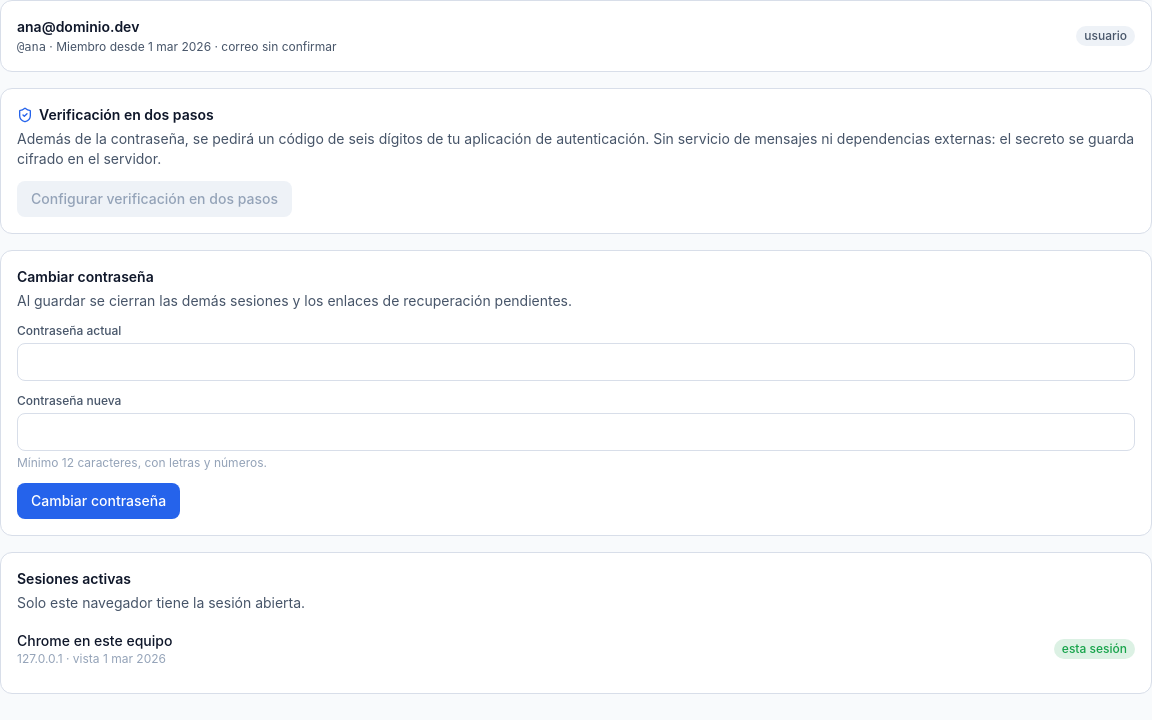
AccountPanel › el rechazo del servidor se muestra tal cual
This screenshot has width=1152, height=720.
Step 1. Type "cual" into the password field labelled "Contraseña actual" → [576, 362], box [17,343,1135,381]
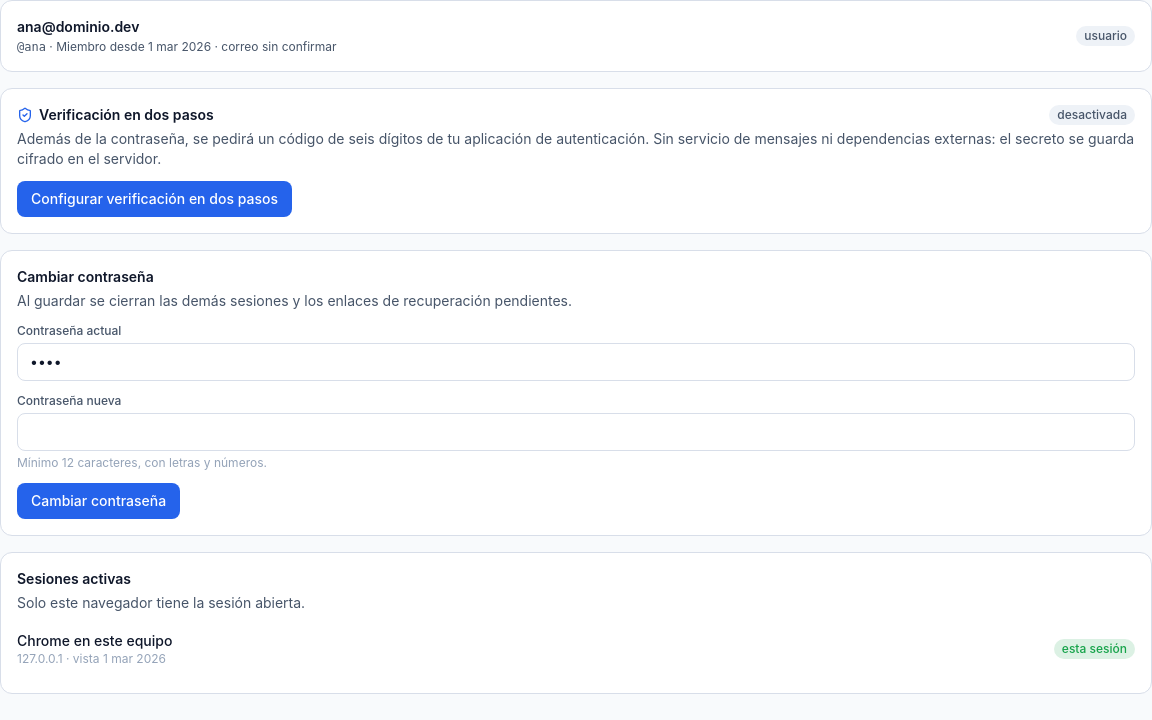
Step 2. Type "S3creta-nueva" into the password field labelled "Contraseña nueva" → [576, 432], box [17,413,1135,451]
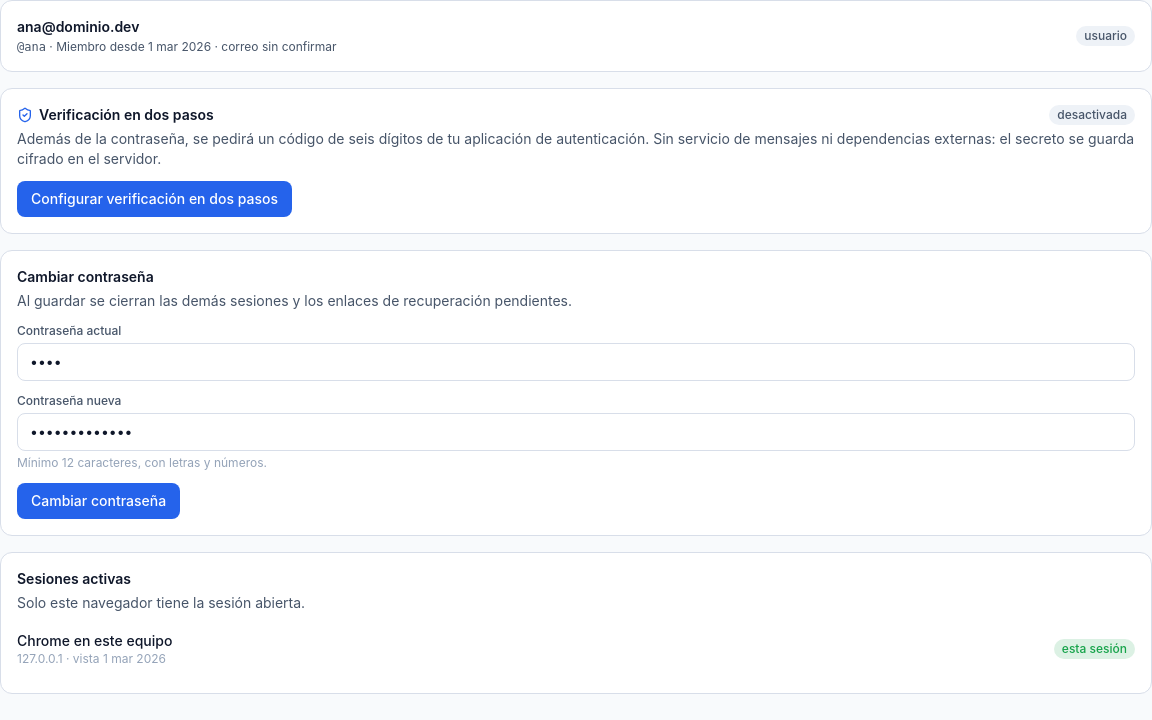
Step 3. Submit the form named "Cambia tu contraseña", box [17,323,1135,519]
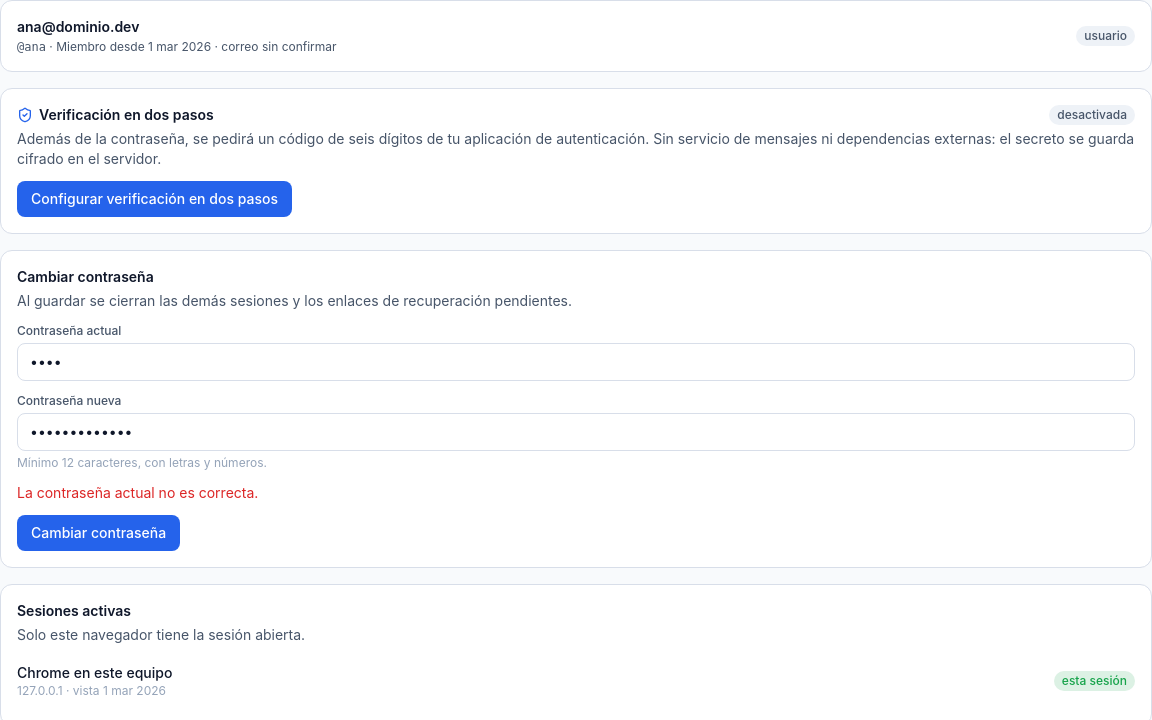
expect the message reads "La contraseña actual no es correcta.": met, box [17,484,258,501]
